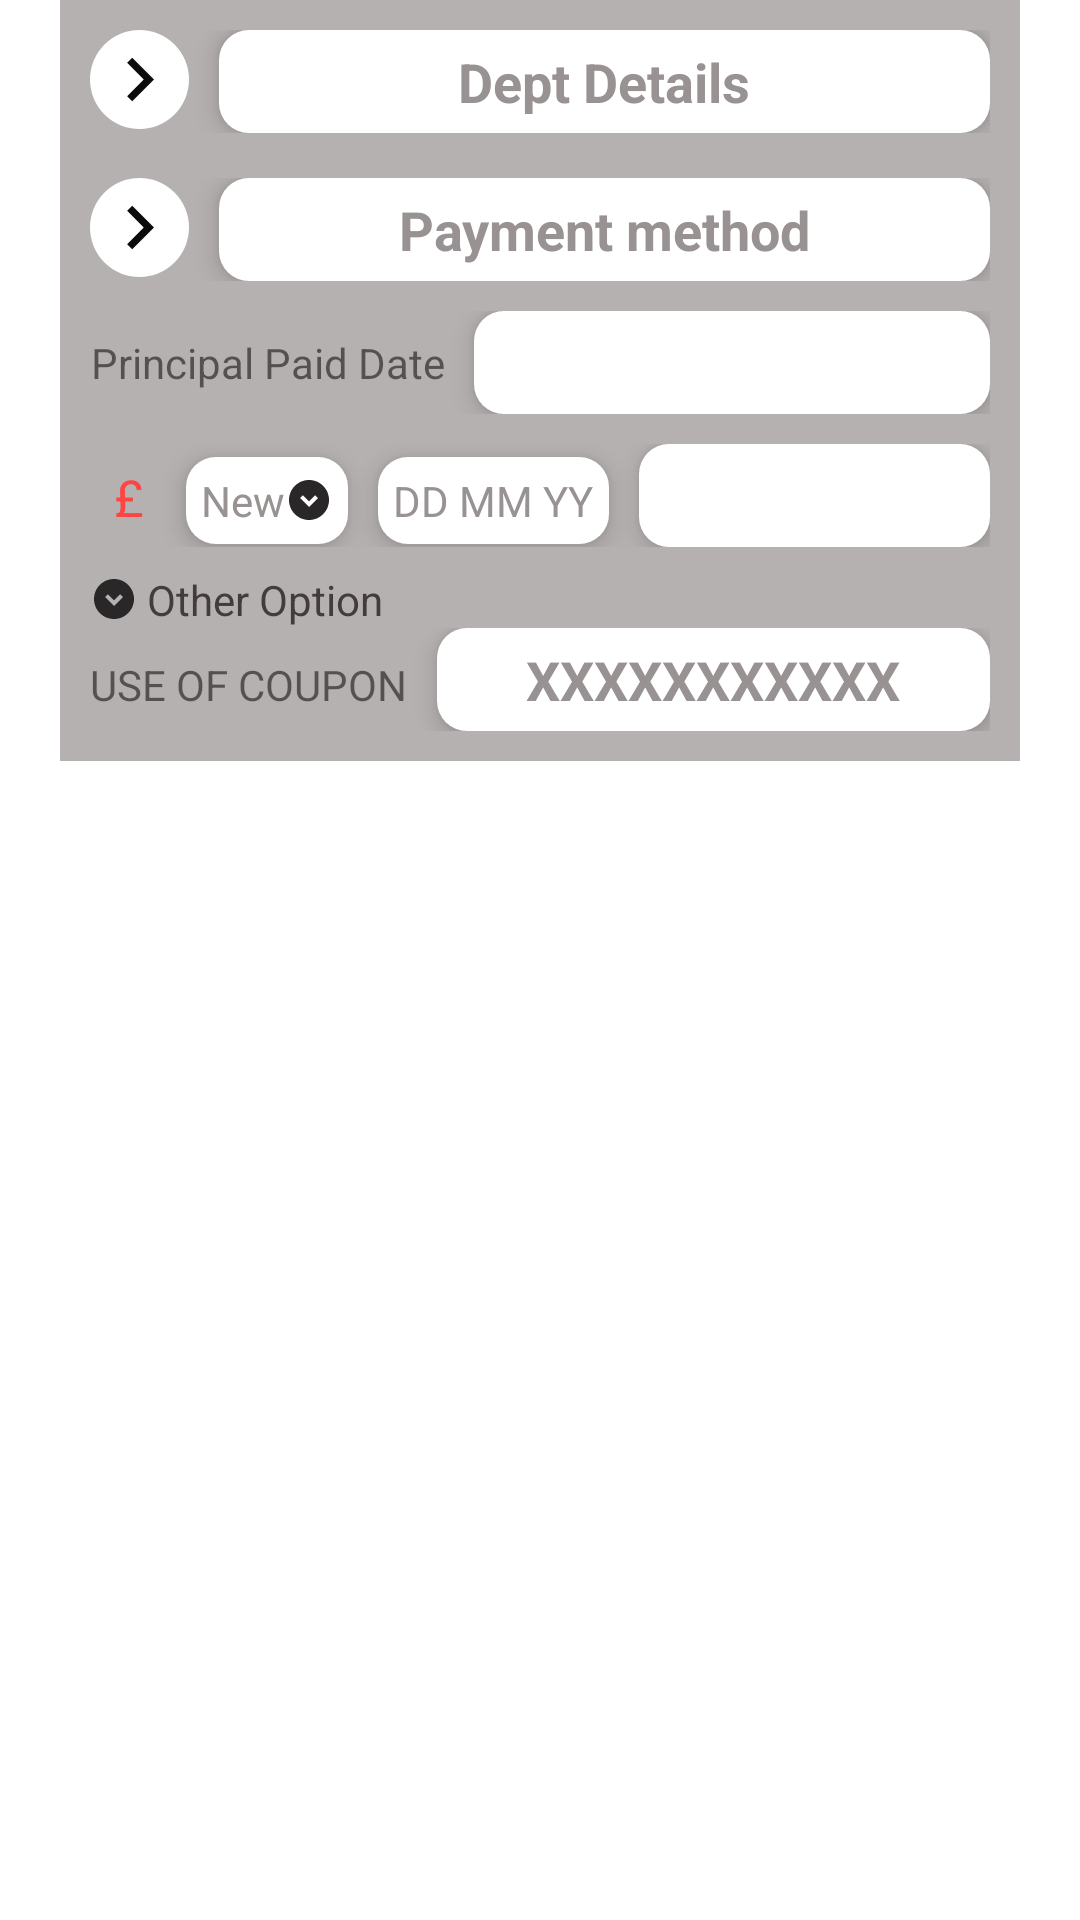

Locate icon controls on the screen. Image size 1080px x 1920px, boxes as {"left": x1, "top": y1, "right": x2, "bottom": y2}.
right arrow: {"left": 90, "top": 30, "right": 189, "bottom": 129}, {"left": 90, "top": 178, "right": 189, "bottom": 277}
